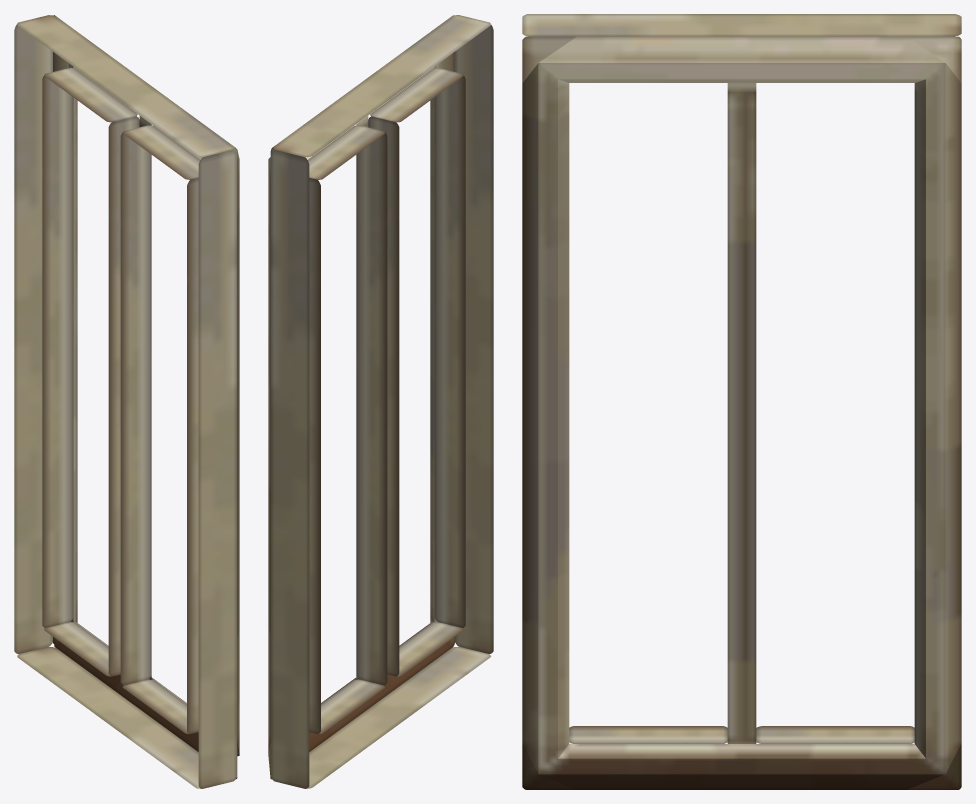
The model's file is window.fbx.
The picture shows the model from 3 angles, left to right: view 1: azimuth 30°, elevation 25°; view 2: azimuth 150°, elevation 25°; view 3: azimuth 270°, elevation 25°; orthographic projection. The views are drawn at different scales.
Visible parts, largest first — view 1: Cube; view 2: Cube; view 3: Cube.
Part boxes in pixels (bbox=[...]): Cube: bbox=[14, 15, 239, 788]; Cube: bbox=[268, 15, 493, 788]; Cube: bbox=[522, 14, 961, 789].
Bounding box in the file's own units: 43.4 × 540 × 285.
